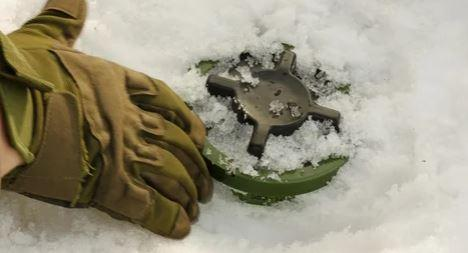pmn: (168, 40, 362, 208)
